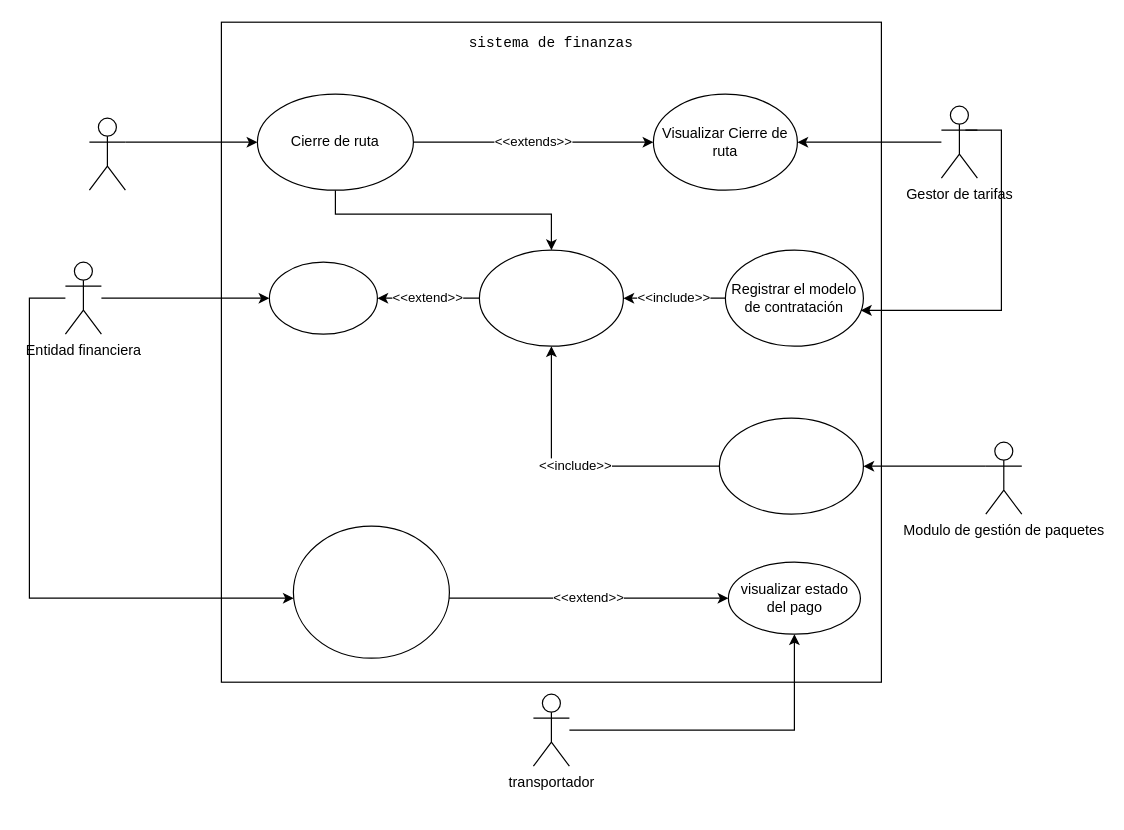
Some shapes in this 1124 by 830 pixel diagram are drawn without their labels. The shapes that lost their labels are listed below. From the top down, each one's centre as x and y in pixels, then its label:
point (106, 153): Modulo de rutas y flotas
point (322, 297): visualizar liquidación
point (550, 297): calcular liquidación
point (790, 465): Novedad estado del paquete
point (370, 591): Registrar estado del pago
